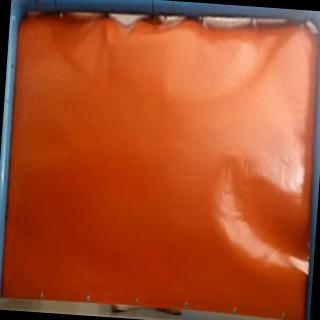Hit-hRxx: (100, 29, 115, 43)
